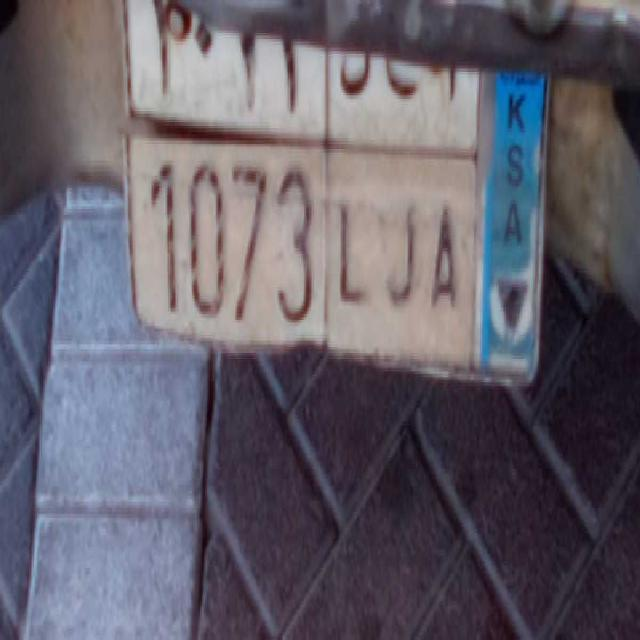license_plate: (132, 132, 470, 368)
